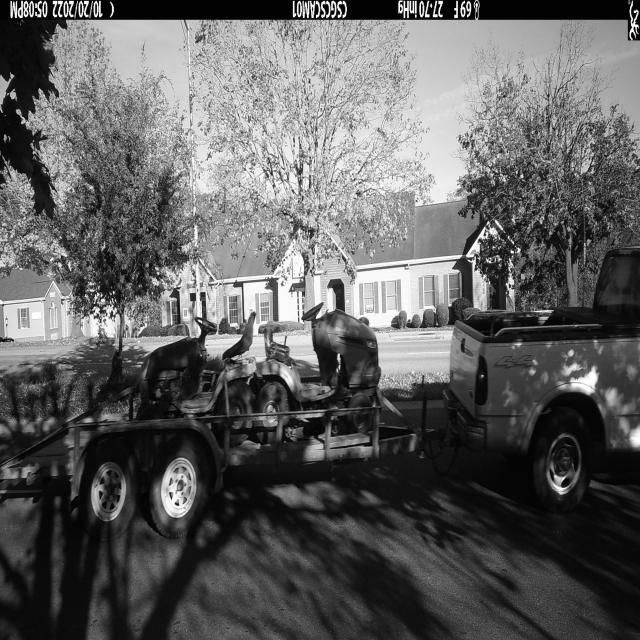Trailer: (0, 387, 444, 543)
